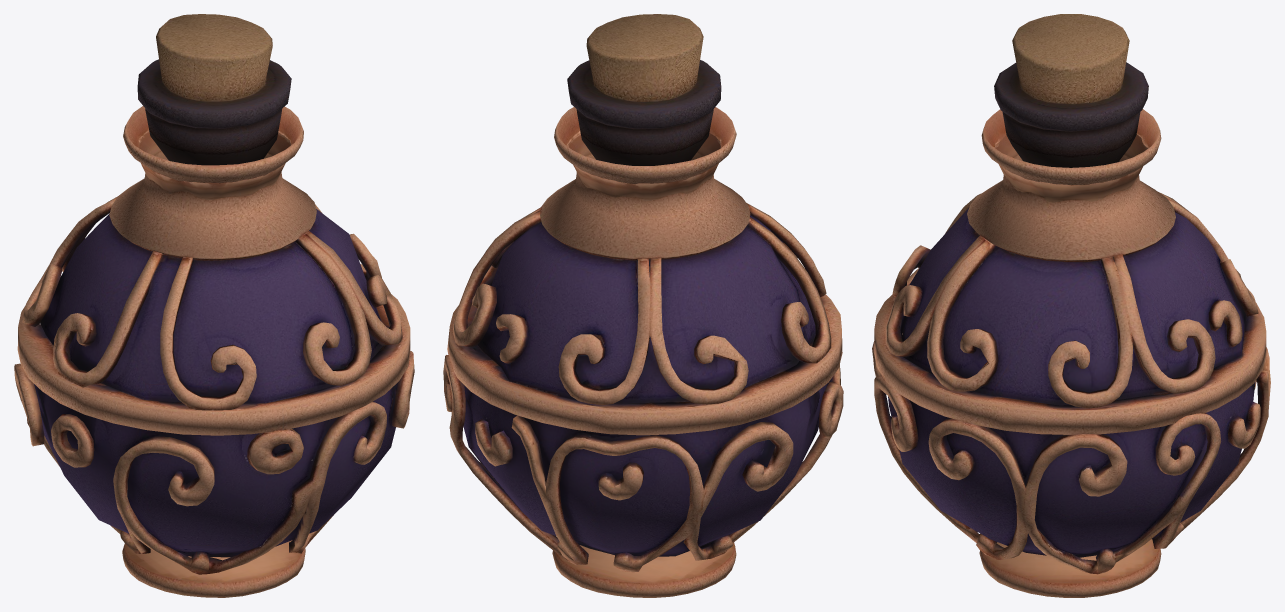
File: tripo_convert_ec479770-2bc2-47b9-a771-8105e4444870.fbx
3 views of the same model, side by side, from view 1: azimuth 30°, elevation 25°; view 2: azimuth 150°, elevation 25°; view 3: azimuth 270°, elevation 25° (orthographic).
Parts seen in each view (by area): view 1: tripo_node_ec479770; view 2: tripo_node_ec479770; view 3: tripo_node_ec479770.
Part boxes in pixels (x1=…): tripo_node_ec479770: x1=14, y1=14, x2=414, y2=597; tripo_node_ec479770: x1=443, y1=14, x2=843, y2=597; tripo_node_ec479770: x1=872, y1=14, x2=1270, y2=597.
Size of the model in its own units: 0.6895 by 0.998 by 0.6895.
Materials: 1 (1 with a texture image).
